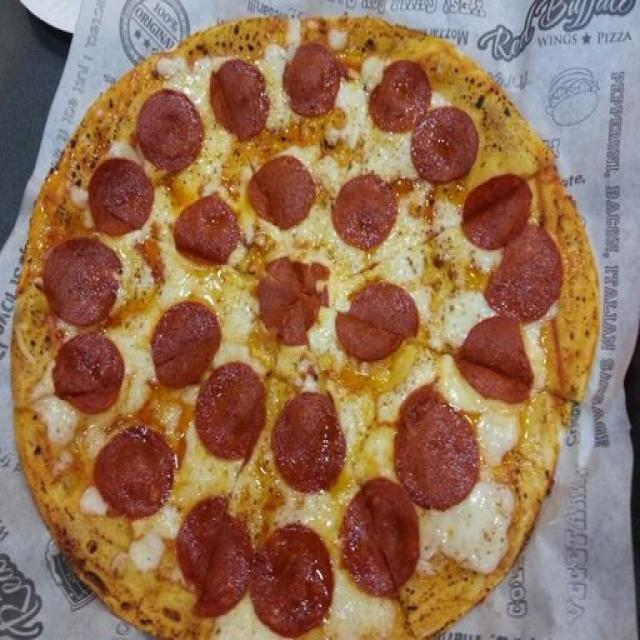Pepperoni: (370, 62, 481, 180), (464, 190, 560, 318), (396, 389, 471, 506), (257, 524, 332, 632), (344, 484, 413, 595), (180, 495, 247, 607), (459, 308, 531, 406), (273, 392, 345, 490), (197, 367, 268, 464), (95, 431, 169, 519), (48, 232, 123, 309), (343, 290, 419, 362), (136, 85, 198, 168), (88, 156, 156, 231), (57, 328, 121, 407), (265, 265, 327, 346), (213, 54, 268, 138), (154, 303, 218, 375), (248, 157, 313, 224), (175, 200, 240, 267), (336, 174, 394, 249), (286, 41, 342, 118)
Pizza: (10, 15, 599, 640)
